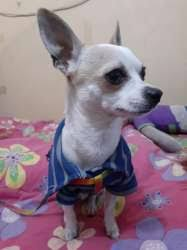chihuahua: (16, 7, 183, 244)
